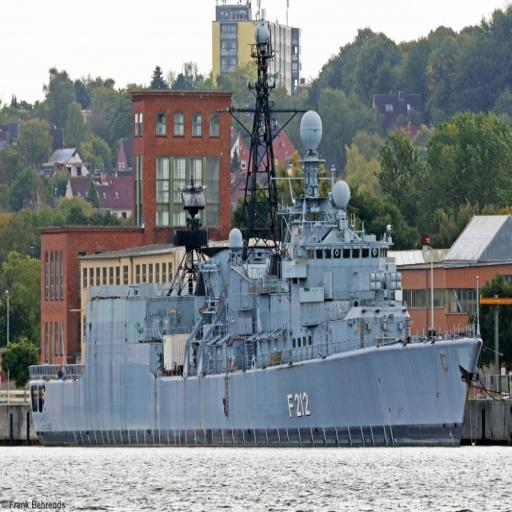Fragata: (19, 12, 485, 444)
